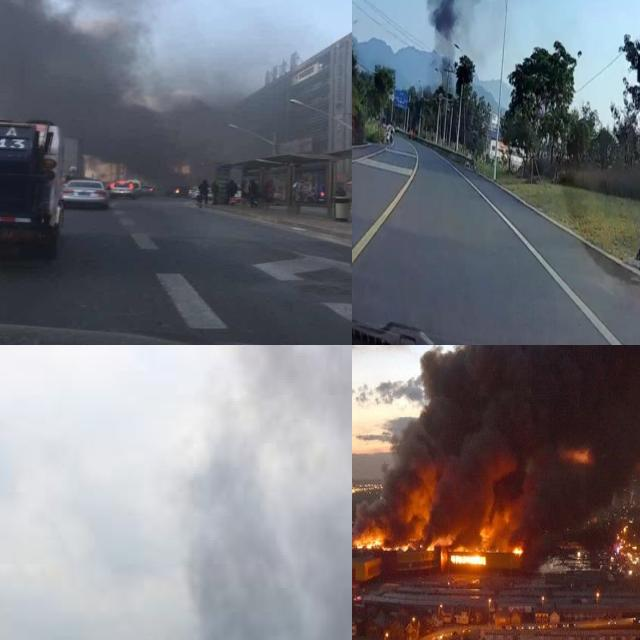fire: (353, 533, 504, 565), (510, 538, 522, 556)
smoke: (71, 345, 352, 640), (0, 0, 347, 192), (352, 345, 640, 536), (424, 0, 487, 59)
